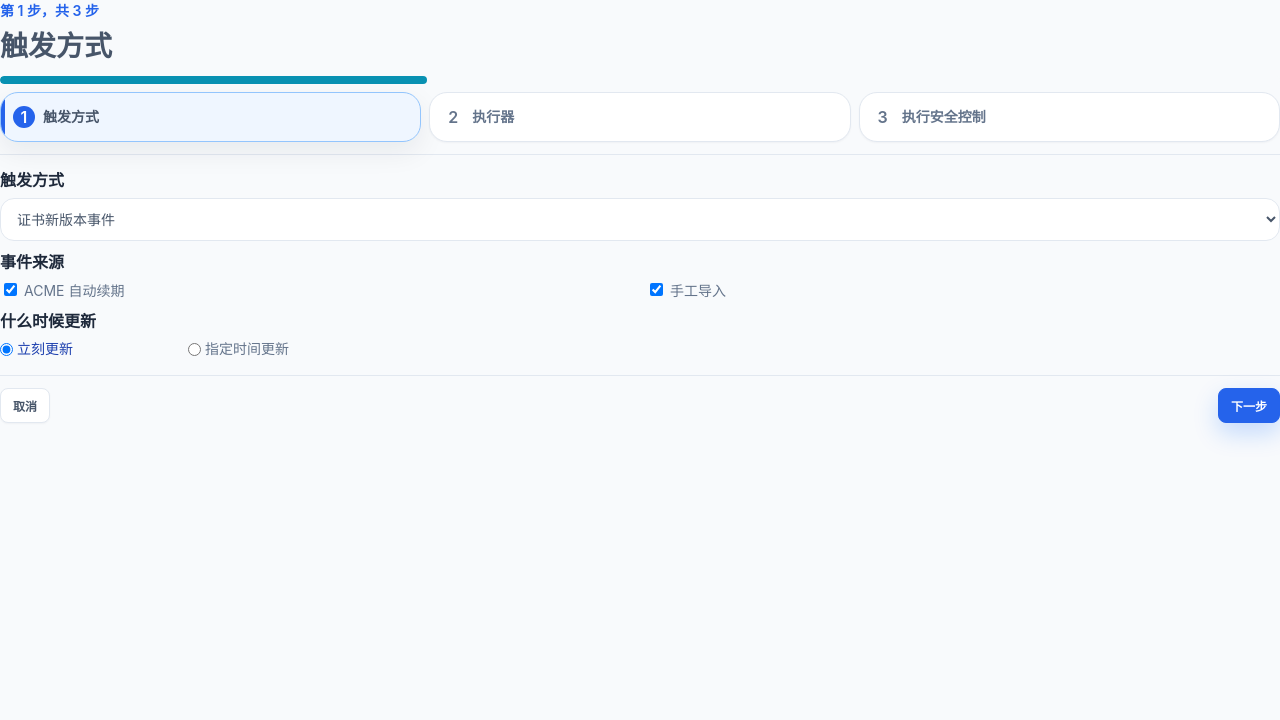
it: AutomationEditor › 选择外部 API 触发时显示 API Key 状态和安全提示
Select "通过外部 API 触发" in the dropdown with test id "automation-trigger" at (640,219), box top-left (0, 198), bottom-right (1279, 241)
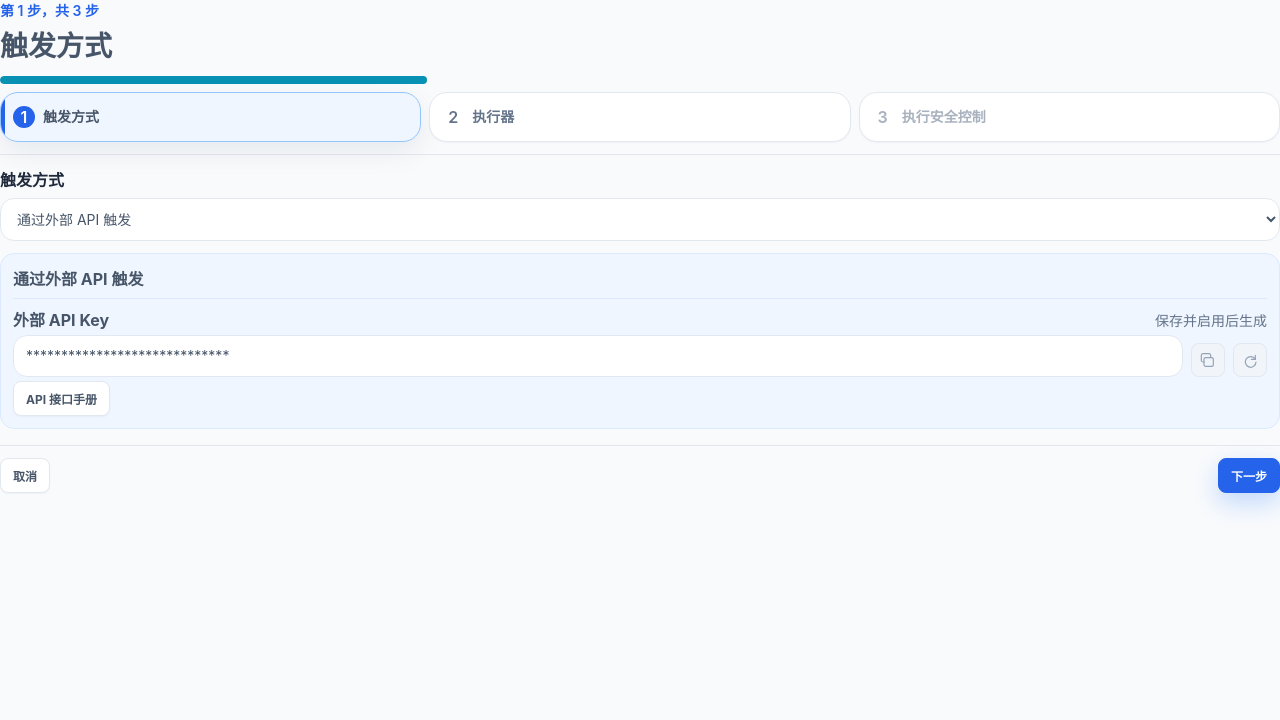
Expected: the element with test id "automation-external-api-key" shows "外部 API Key", top-left (13, 310), bottom-right (109, 330)
Expected: the element with test id "automation-external-api-key" shows "保存并启用后生成", top-left (1155, 312), bottom-right (1267, 329)
Expected: the field with test id "automation-external-api-key-value" holds "*****************************", top-left (13, 335), bottom-right (1183, 377)
Click the button with test id "automation-external-api-manual".
click(62, 399)  # box top-left (13, 381), bottom-right (110, 416)
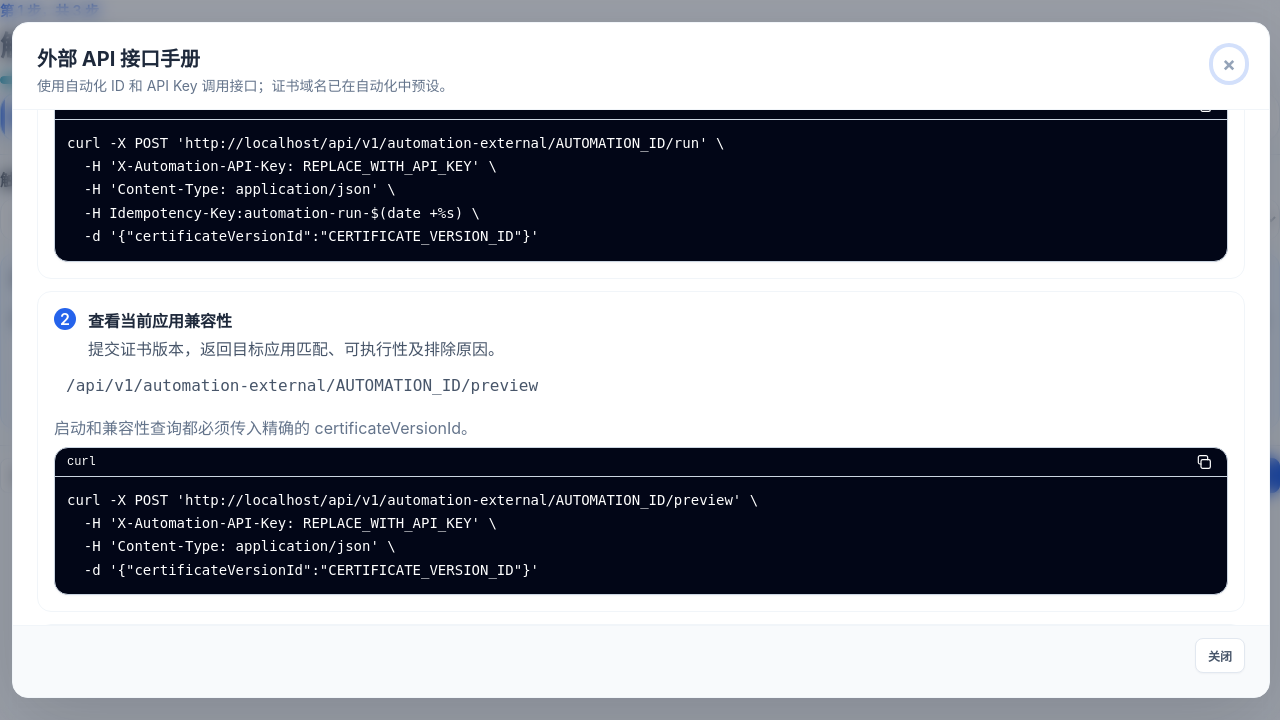
Expected: the element with test id "automation-external-api-manual-modal" shows "查看当前应用兼容性", top-left (88, 311), bottom-right (232, 331)
Expected: the element with test id "automation-external-api-manual-modal" shows "/api/v1/automation-external/AUTOMATION_ID/preview", top-left (66, 376), bottom-right (538, 395)
